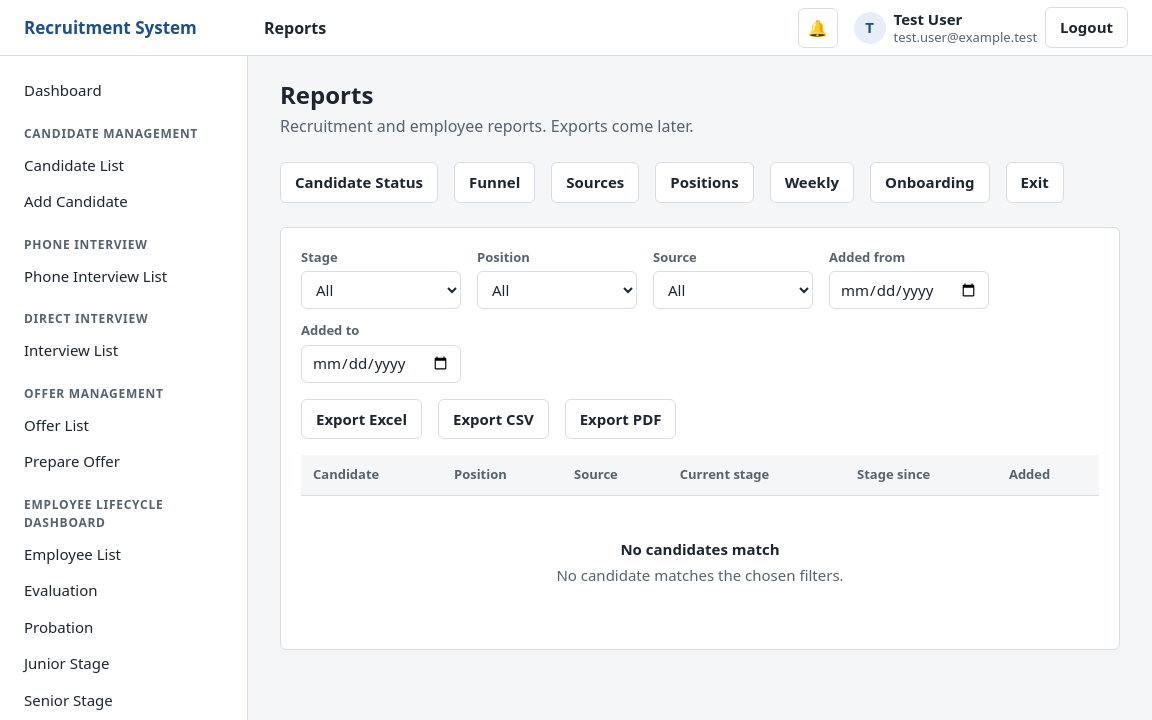
Test: report exports › a failed export shows an error and recovers
Check: the text "No candidates match" is shown, box [620, 538, 780, 558]
What coordinates should you click on to do the following:
click the button "Export PDF"
I would click on:
 (620, 419)
Its box is [565, 398, 676, 439].
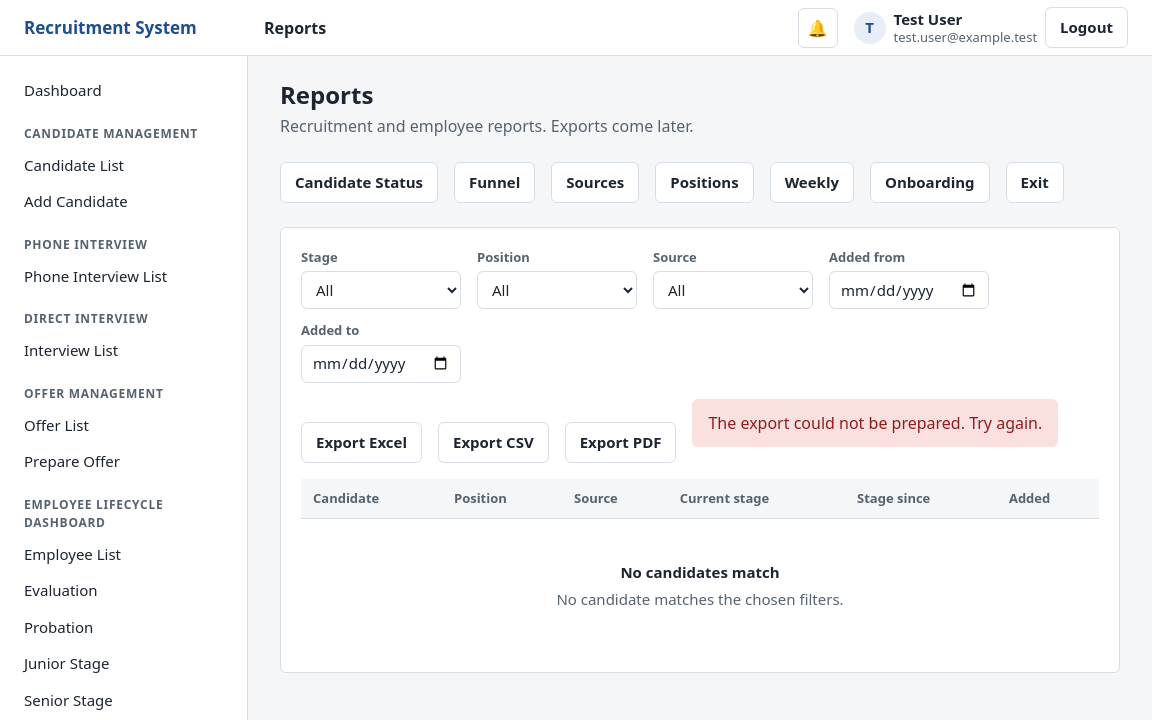
Check: the button "Export PDF" is shown, box [565, 422, 676, 462]
Check: the text "The export could not be prepared. Try again." is shown, box [708, 410, 1042, 434]
